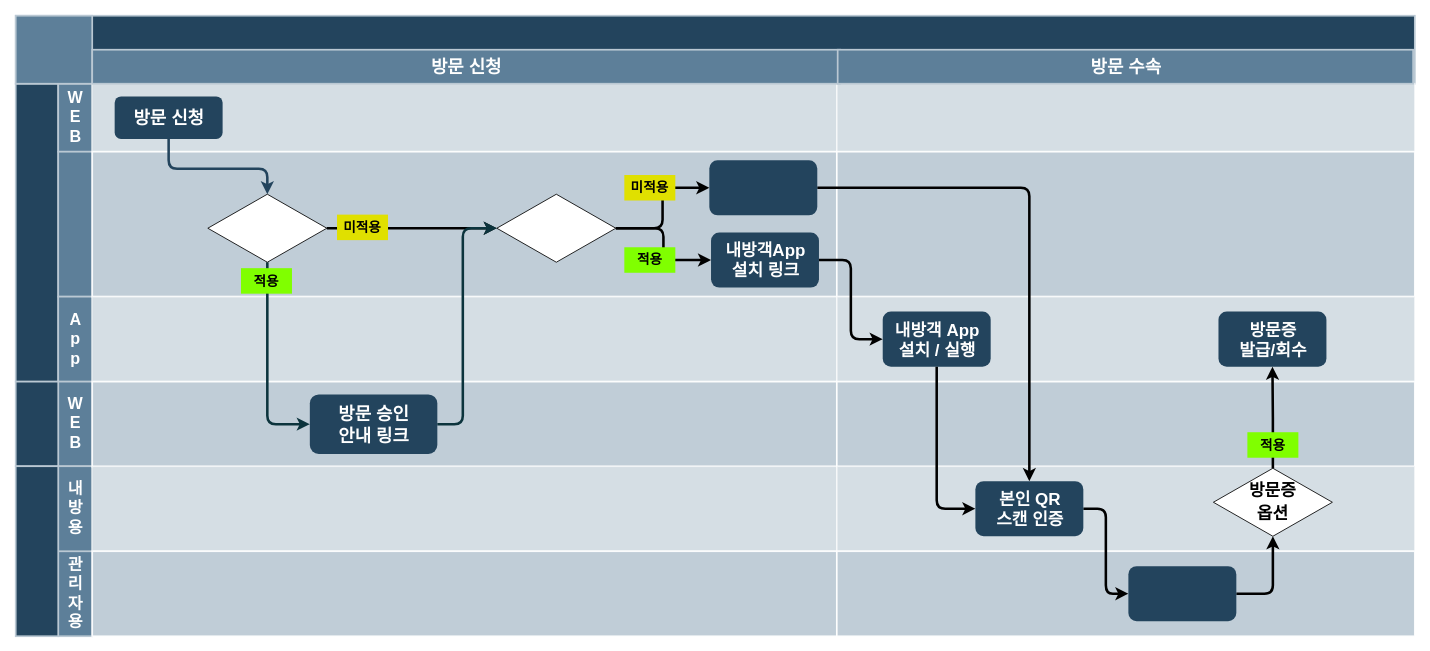
This 1430x651 diagram has some shape labels left out. The shapes that lost their labels are listed below. From the top down, each one's box as (x1, y1, x2, y2) in pixels, then its label:
(14, 14, 1415, 84): 내방객 고도화 TEST CASE
(709, 160, 817, 215): 모바일 방문증 QR 링크
(14, 82, 59, 382): 내 방 객
(57, 150, 93, 297): S M S
(207, 193, 327, 262): 승인 옵션
(496, 193, 616, 262): 보안 옵션
(14, 380, 59, 467): 담 당 자
(14, 465, 59, 637): 안 내 데 스 크
(1128, 566, 1236, 621): 내방객 확인 입문 처리
